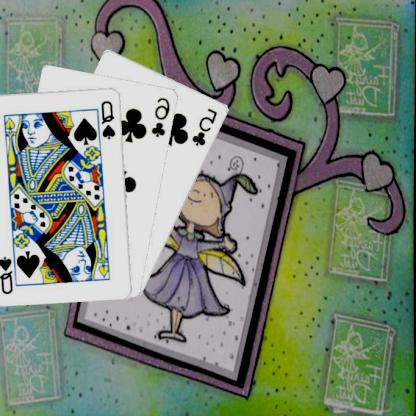5C: (191, 106, 221, 147)
6C: (151, 94, 173, 138)
QS: (101, 98, 119, 140), (0, 253, 16, 295)
